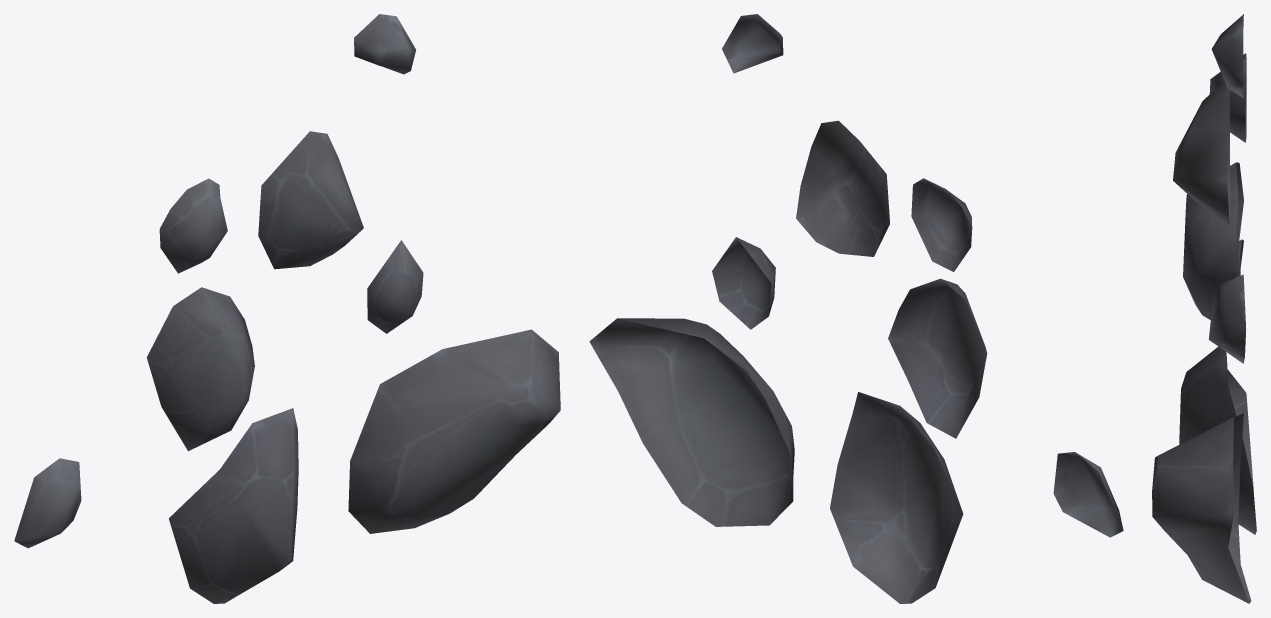
File: Rubble_Kit_FixedUVs.fbx
The picture shows the model from 3 angles, left to right: view 1: azimuth 30°, elevation 25°; view 2: azimuth 150°, elevation 25°; view 3: azimuth 270°, elevation 25°; orthographic projection. The views are drawn at different scales.
Parts seen in each view (by area): view 1: Rubble1, Rubble7, Rubble5, Rubble4, Rubble6, Rubble8, Rubble2, Rubble3; view 2: Rubble1, Rubble7, Rubble5, Rubble4, Rubble2, Rubble6, Rubble8, Rubble3; view 3: Rubble1, Rubble7, Rubble4, Rubble5, Rubble2, Rubble3, Rubble6, Rubble8.
Part boxes in pixels (left/top/right/bottom): Rubble1: left=348, top=329, right=560, bottom=533; Rubble7: left=168, top=408, right=298, bottom=603; Rubble5: left=146, top=287, right=254, bottom=451; Rubble4: left=258, top=131, right=363, bottom=269; Rubble6: left=159, top=178, right=227, bottom=273; Rubble8: left=14, top=458, right=81, bottom=548; Rubble2: left=367, top=240, right=423, bottom=333; Rubble3: left=354, top=14, right=415, bottom=74; Rubble1: left=589, top=318, right=794, bottom=526; Rubble7: left=830, top=392, right=963, bottom=603; Rubble5: left=888, top=278, right=987, bottom=438; Rubble4: left=796, top=120, right=889, bottom=256; Rubble2: left=712, top=237, right=775, bottom=329; Rubble6: left=911, top=178, right=972, bottom=271; Rubble8: left=1053, top=452, right=1123, bottom=537; Rubble3: left=722, top=14, right=783, bottom=73; Rubble1: left=1152, top=413, right=1251, bottom=603; Rubble7: left=1179, top=346, right=1256, bottom=534; Rubble4: left=1173, top=81, right=1230, bottom=225; Rubble5: left=1183, top=162, right=1243, bottom=319; Rubble2: left=1208, top=274, right=1246, bottom=363; Rubble3: left=1211, top=14, right=1243, bottom=97; Rubble6: left=1209, top=53, right=1246, bottom=142; Rubble8: left=1236, top=239, right=1243, bottom=277.
Bounding box in the file's own units: 37.62 × 36.89 × 5.84.
